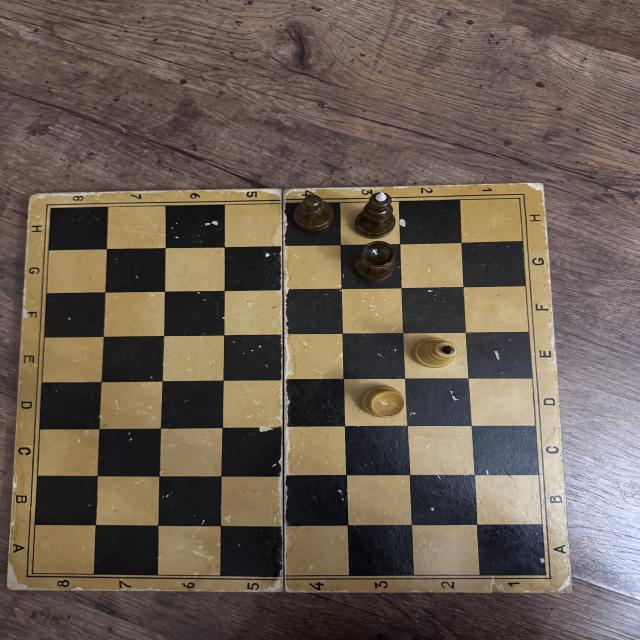black-king: (352, 192, 399, 239)
black-pawn: (291, 193, 337, 236)
black-rook: (353, 240, 398, 284)
white-king: (411, 334, 460, 371)
white-rook: (359, 384, 406, 420)
